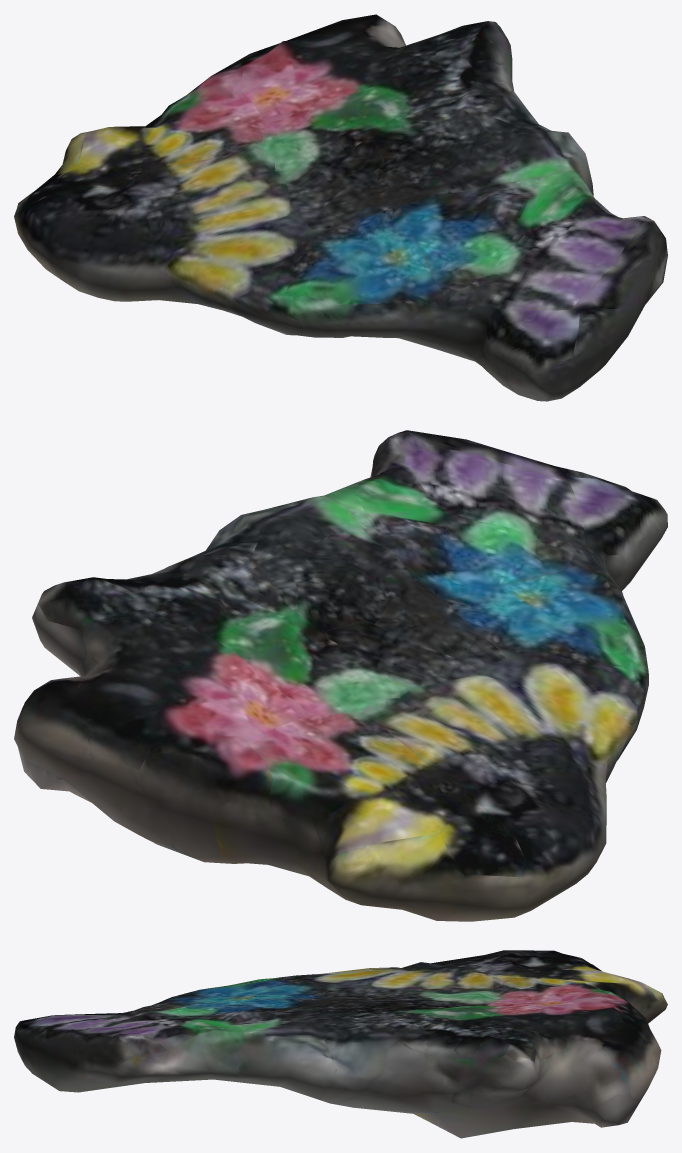
The model's file is hall.glb.
3 renders of one model, top to bottom at view 1: azimuth 30°, elevation 25°; view 2: azimuth 150°, elevation 25°; view 3: azimuth 270°, elevation 25°, orthographic. The views are drawn at different scales.
Bounding box in the file's own units: 0.3856 × 0.1331 × 0.5375.
Materials: 1 (1 with a texture image).
